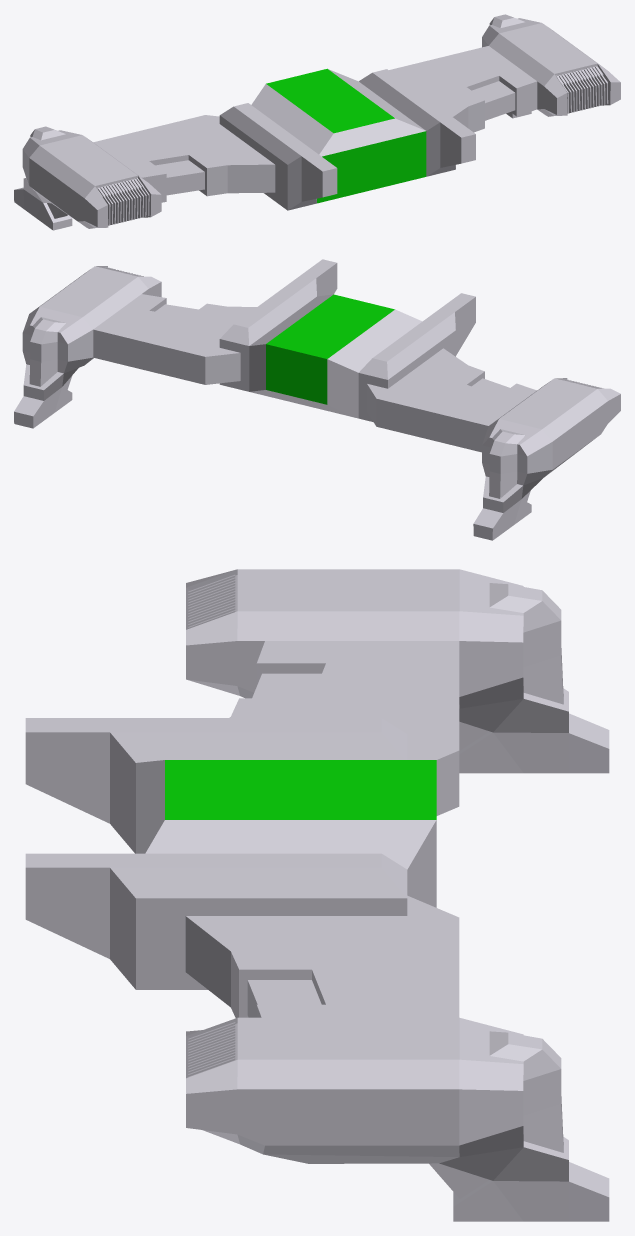
Rendered from PE-Wing.fbx.
The picture shows the model from 3 angles, top to bottom: view 1: azimuth 30°, elevation 25°; view 2: azimuth 150°, elevation 25°; view 3: azimuth 270°, elevation 25°; orthographic projection. The views are drawn at different scales.
Parts seen in each view (by area): view 1: PE-Wing; view 2: PE-Wing; view 3: PE-Wing.
Boxes of the visible parts, x1,y1,x2,y2 form: PE-Wing: (14,14,620,230); PE-Wing: (14,259,620,540); PE-Wing: (25,569,609,1221).
Size of the model in its own units: 8.9 by 1.61 by 4.3.
